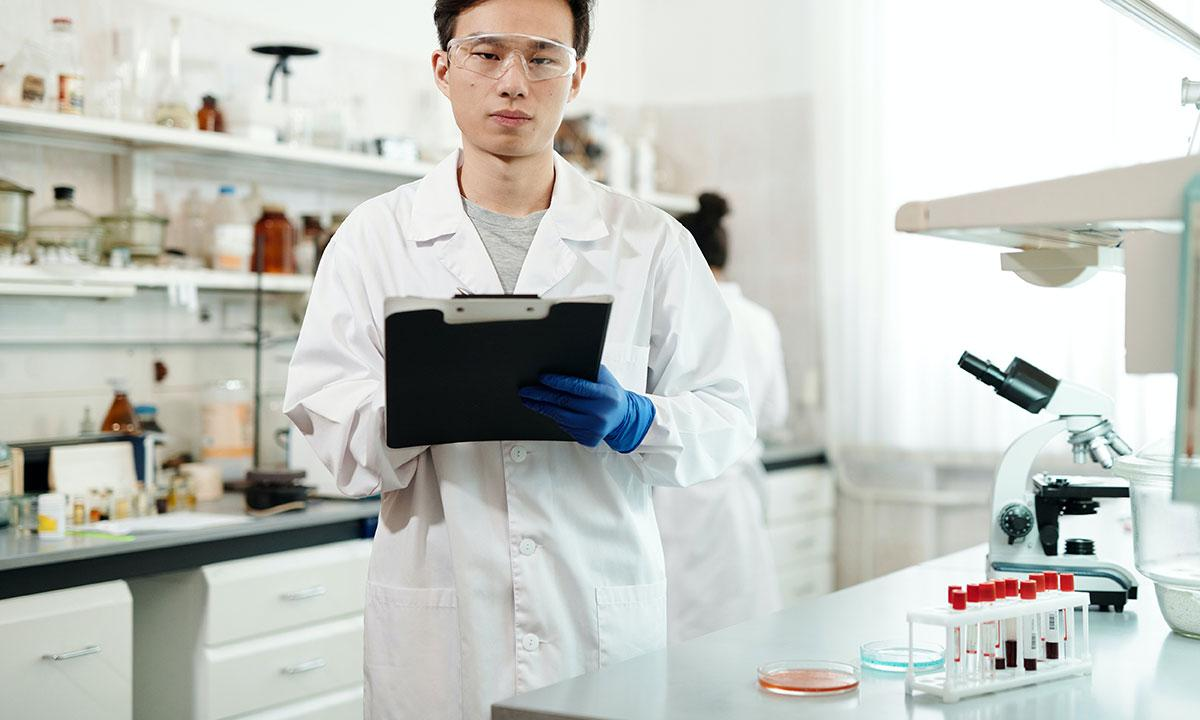Bata-Correcta: (286, 0, 753, 719)
